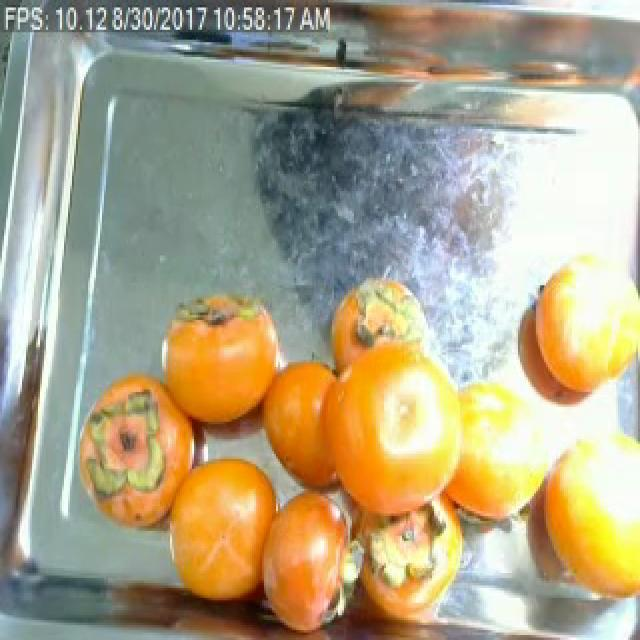Fruit: (246, 340, 408, 513), (148, 434, 292, 625), (504, 248, 640, 424), (148, 283, 292, 432)
